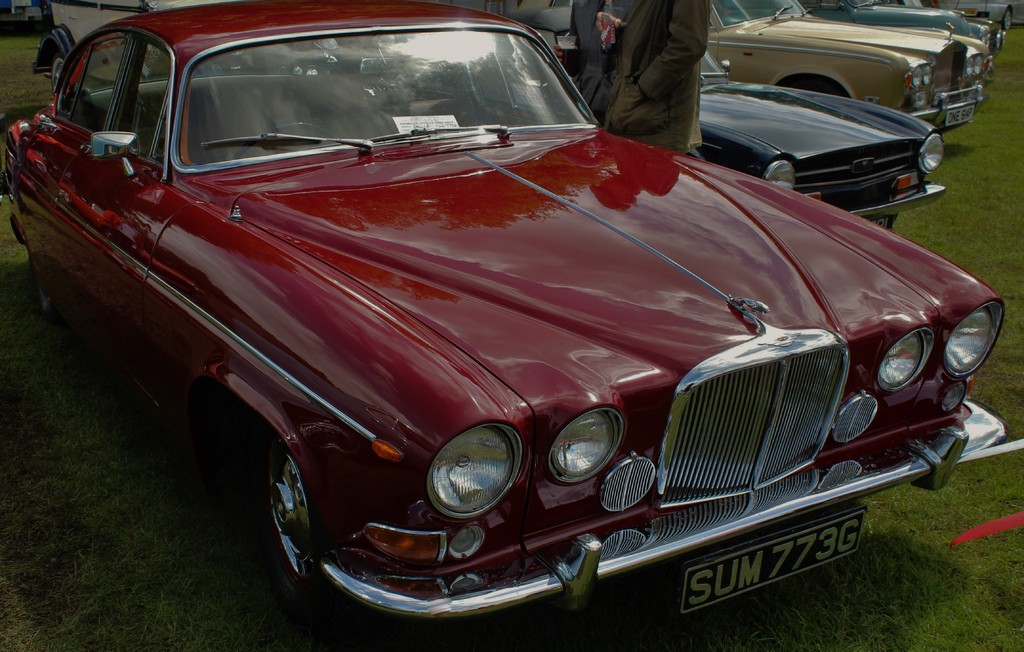Car: (10, 41, 1002, 622), (497, 3, 947, 234), (673, 4, 988, 135), (35, 0, 217, 103), (814, 0, 1006, 75), (949, 0, 1023, 30)
